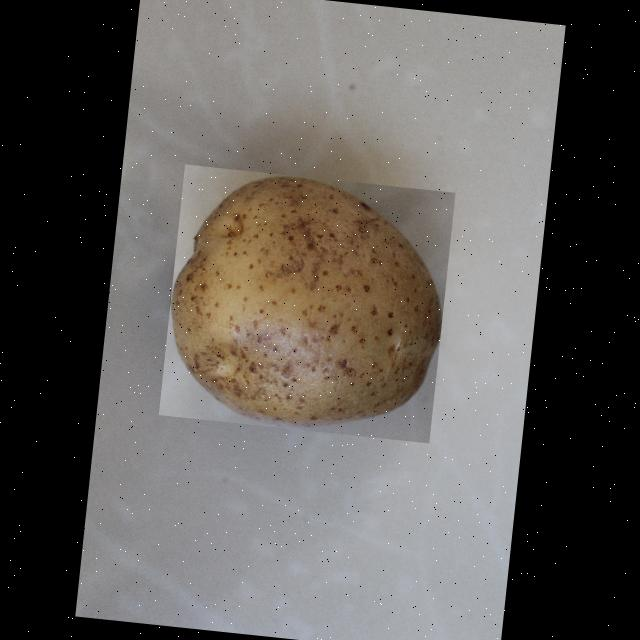Diseased-fungal potato: (158, 163, 456, 442)
